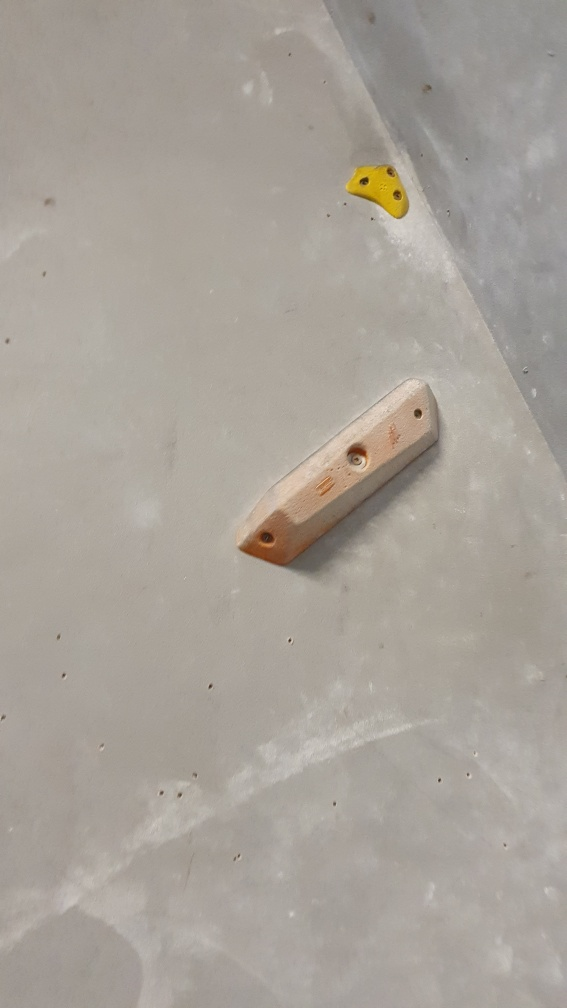Pinch: (235, 376, 442, 570)
